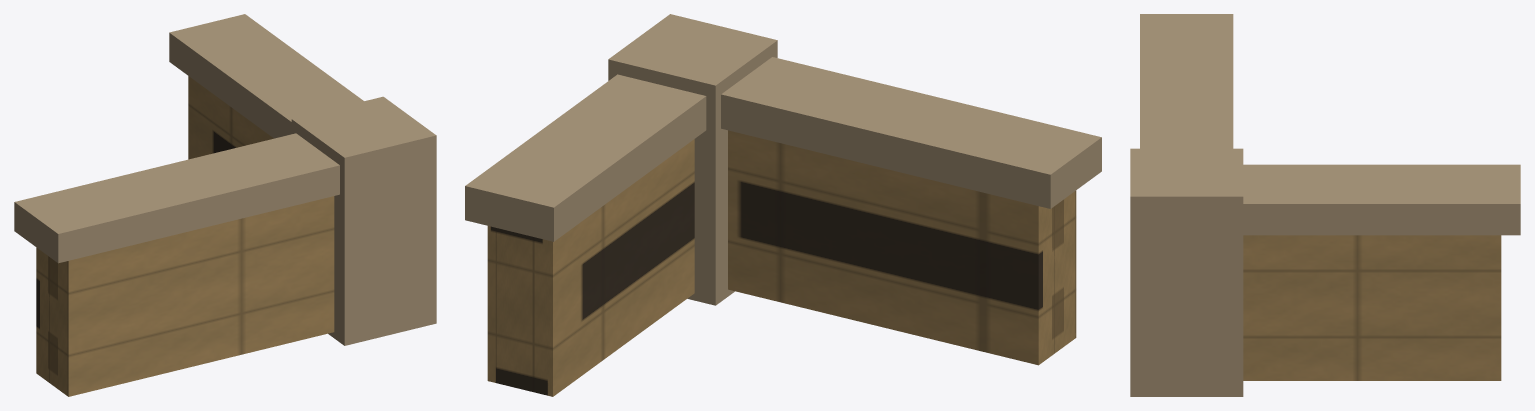
Rendered from city-module-corner-lod1.glb.
The picture shows the model from 3 angles, left to right: view 1: azimuth 30°, elevation 25°; view 2: azimuth 150°, elevation 25°; view 3: azimuth 270°, elevation 25°; orthographic projection. The views are drawn at different scales.
Visible parts, largest first — view 1: module_corner_wall_a_facade, module_corner_square_pier, module_corner_wall_a_top_walkway, module_corner_wall_b_top_walkway, module_corner_wall_b_facade; view 2: module_corner_wall_a_facade, module_corner_wall_b_facade, module_corner_wall_a_top_walkway, module_corner_wall_b_top_walkway, module_corner_square_pier; view 3: module_corner_wall_b_facade, module_corner_square_pier, module_corner_wall_b_top_walkway, module_corner_wall_a_top_walkway.
Boxes of the visible parts, left/top/right/bottom form: module_corner_wall_a_facade: left=36, top=196, right=334, bottom=396; module_corner_square_pier: left=291, top=96, right=436, bottom=345; module_corner_wall_a_top_walkway: left=14, top=133, right=339, bottom=263; module_corner_wall_b_top_walkway: left=169, top=14, right=363, bottom=138; module_corner_wall_b_facade: left=188, top=76, right=273, bottom=159; module_corner_wall_a_facade: left=728, top=130, right=1076, bottom=365; module_corner_wall_b_facade: left=487, top=139, right=694, bottom=396; module_corner_wall_a_top_walkway: left=721, top=57, right=1101, bottom=208; module_corner_wall_b_top_walkway: left=465, top=74, right=706, bottom=241; module_corner_square_pier: left=608, top=14, right=777, bottom=305; module_corner_wall_b_facade: left=1243, top=235, right=1501, bottom=380; module_corner_square_pier: left=1130, top=148, right=1243, bottom=396; module_corner_wall_b_top_walkway: left=1243, top=164, right=1520, bottom=235; module_corner_wall_a_top_walkway: left=1140, top=14, right=1233, bottom=148.
Bounding box in the file's own units: 0.4675 × 0.225 × 0.3975.
Materials: 2 (1 with a texture image).
